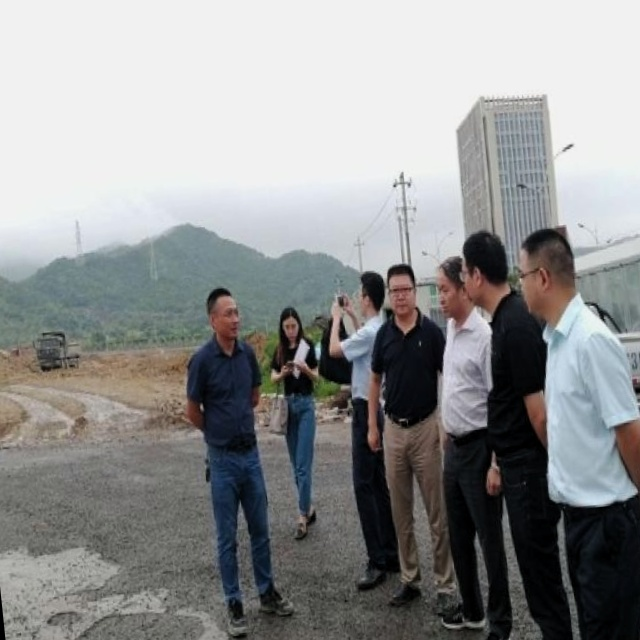Sin_Casco_Mascarrilla: (510, 226, 583, 325), (201, 283, 245, 346), (383, 263, 423, 321)
Sin_Chaleco: (433, 314, 500, 436)
